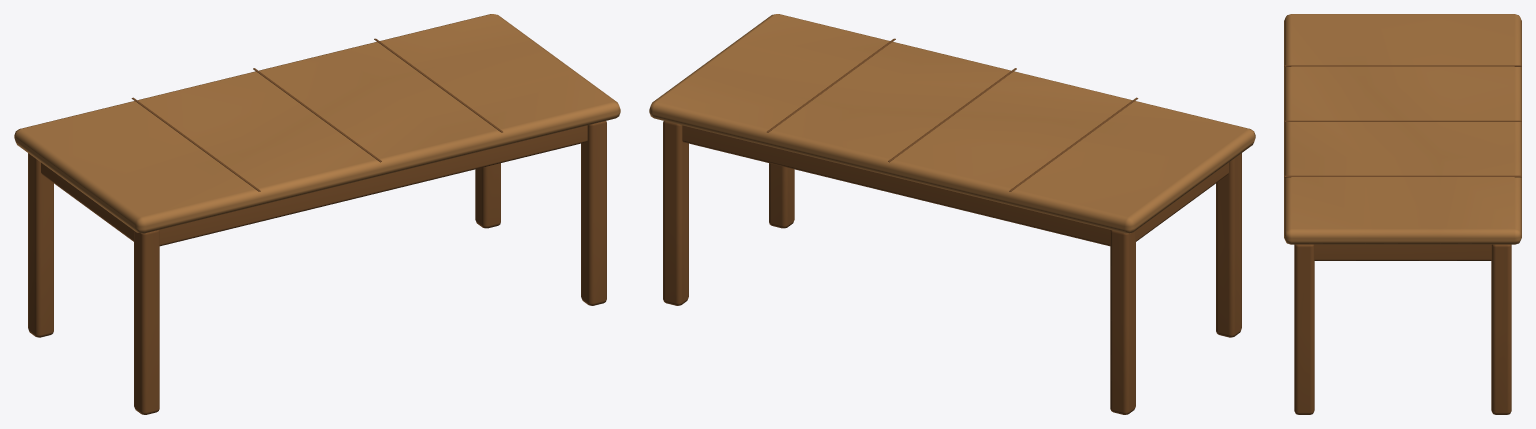
Rendered from furn_table_wood.glb.
3 views of the same model, side by side, from view 1: azimuth 30°, elevation 25°; view 2: azimuth 150°, elevation 25°; view 3: azimuth 270°, elevation 25° (orthographic). The views are drawn at different scales.
Parts seen in each view (by area): view 1: furn_table_wood_main; view 2: furn_table_wood_main; view 3: furn_table_wood_main.
Boxes of the visible parts, box(x1,y1,x2,y2) form: furn_table_wood_main: box(14, 14, 620, 414); furn_table_wood_main: box(649, 14, 1255, 414); furn_table_wood_main: box(1284, 14, 1521, 414).
Size of the model in its own units: 1.8 by 0.722 by 0.82.
